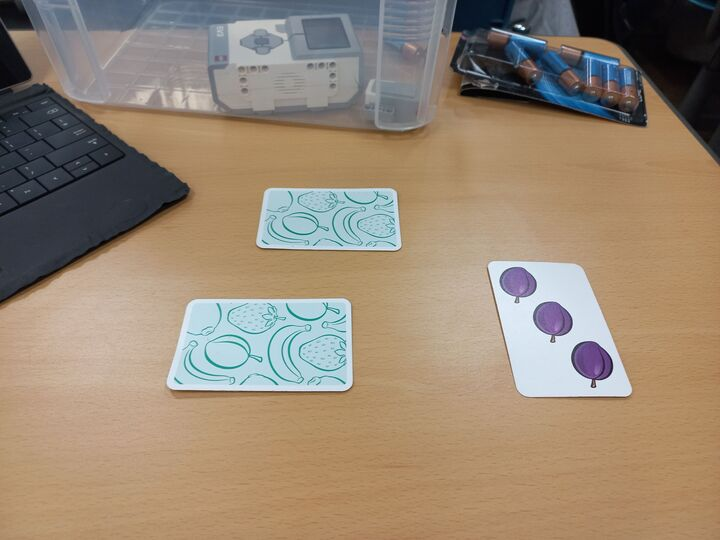plum3: (486, 259, 636, 401)
